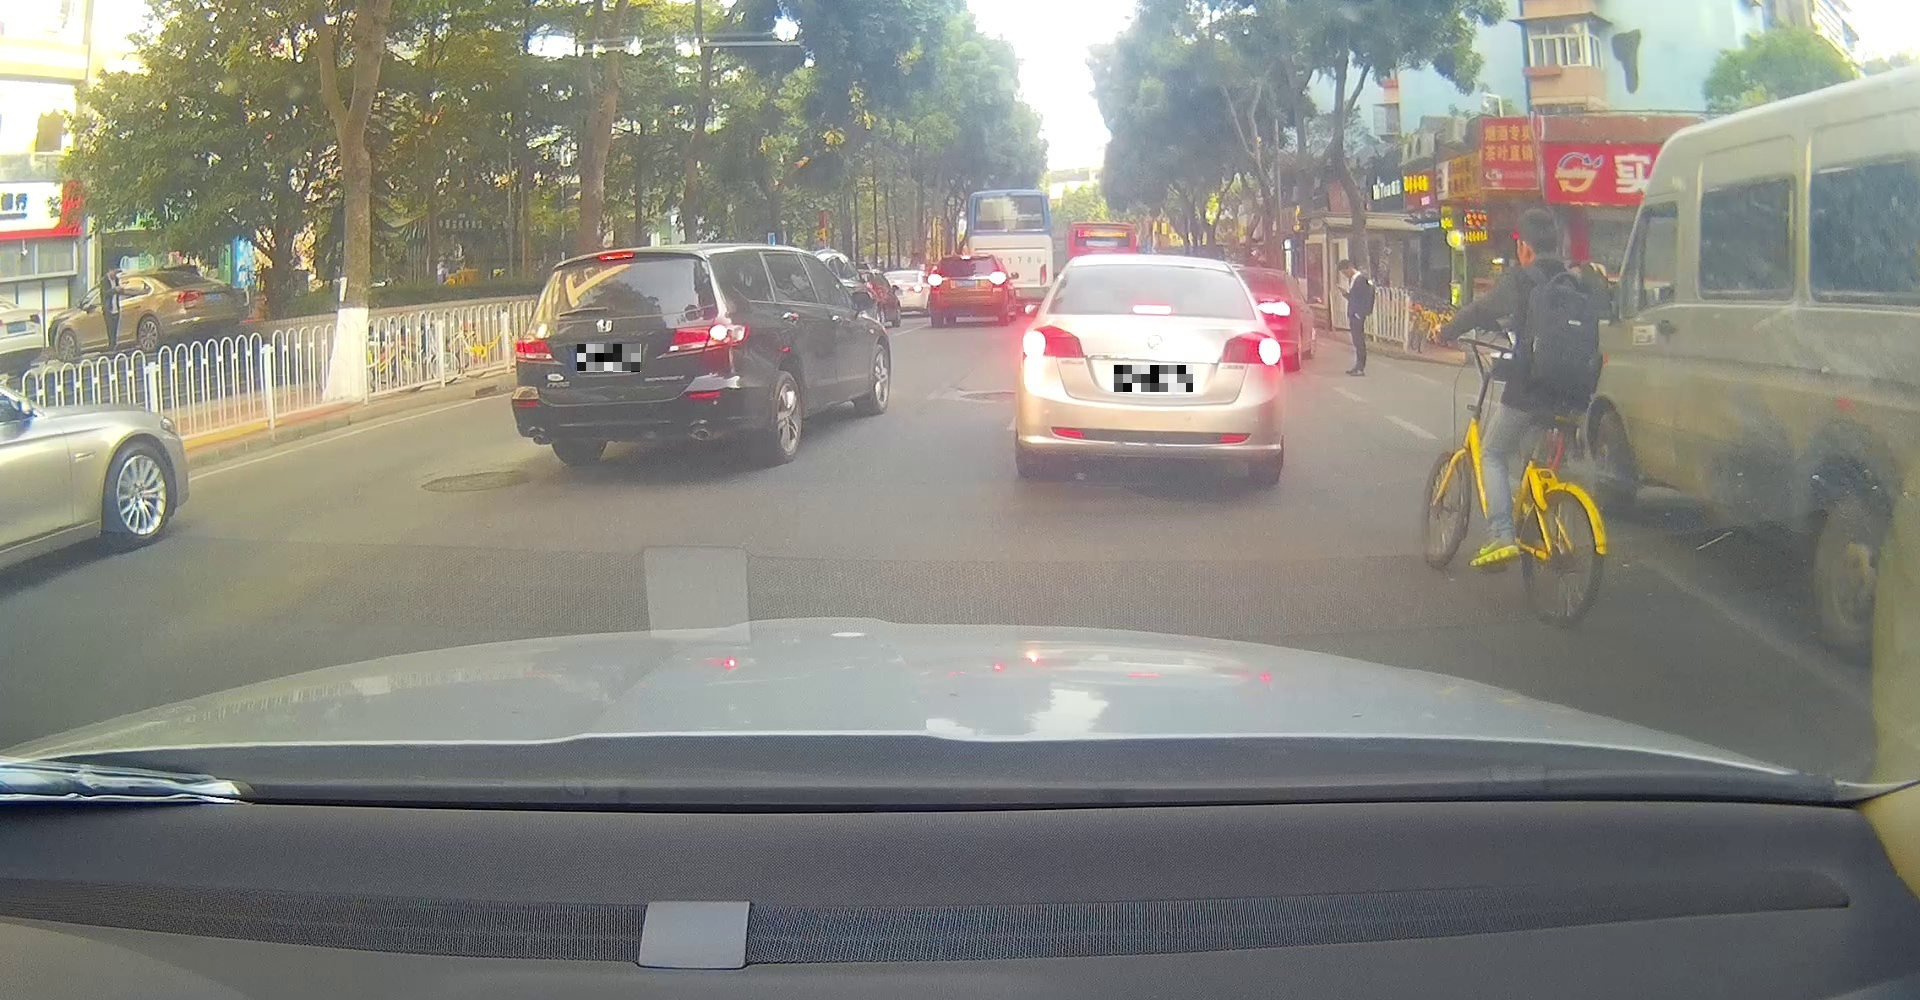L_light: (1021, 325, 1083, 358), (513, 335, 552, 362), (927, 274, 943, 286)
R_light: (667, 324, 748, 353), (1222, 331, 1283, 365), (988, 272, 1007, 284)
T_light: (598, 250, 634, 261), (1133, 305, 1171, 315), (961, 255, 971, 260)
day-brake: (1015, 254, 1283, 489), (510, 247, 749, 466), (927, 254, 1007, 329)
plate_1: (577, 344, 641, 372)
plate_2: (1114, 365, 1192, 392)
